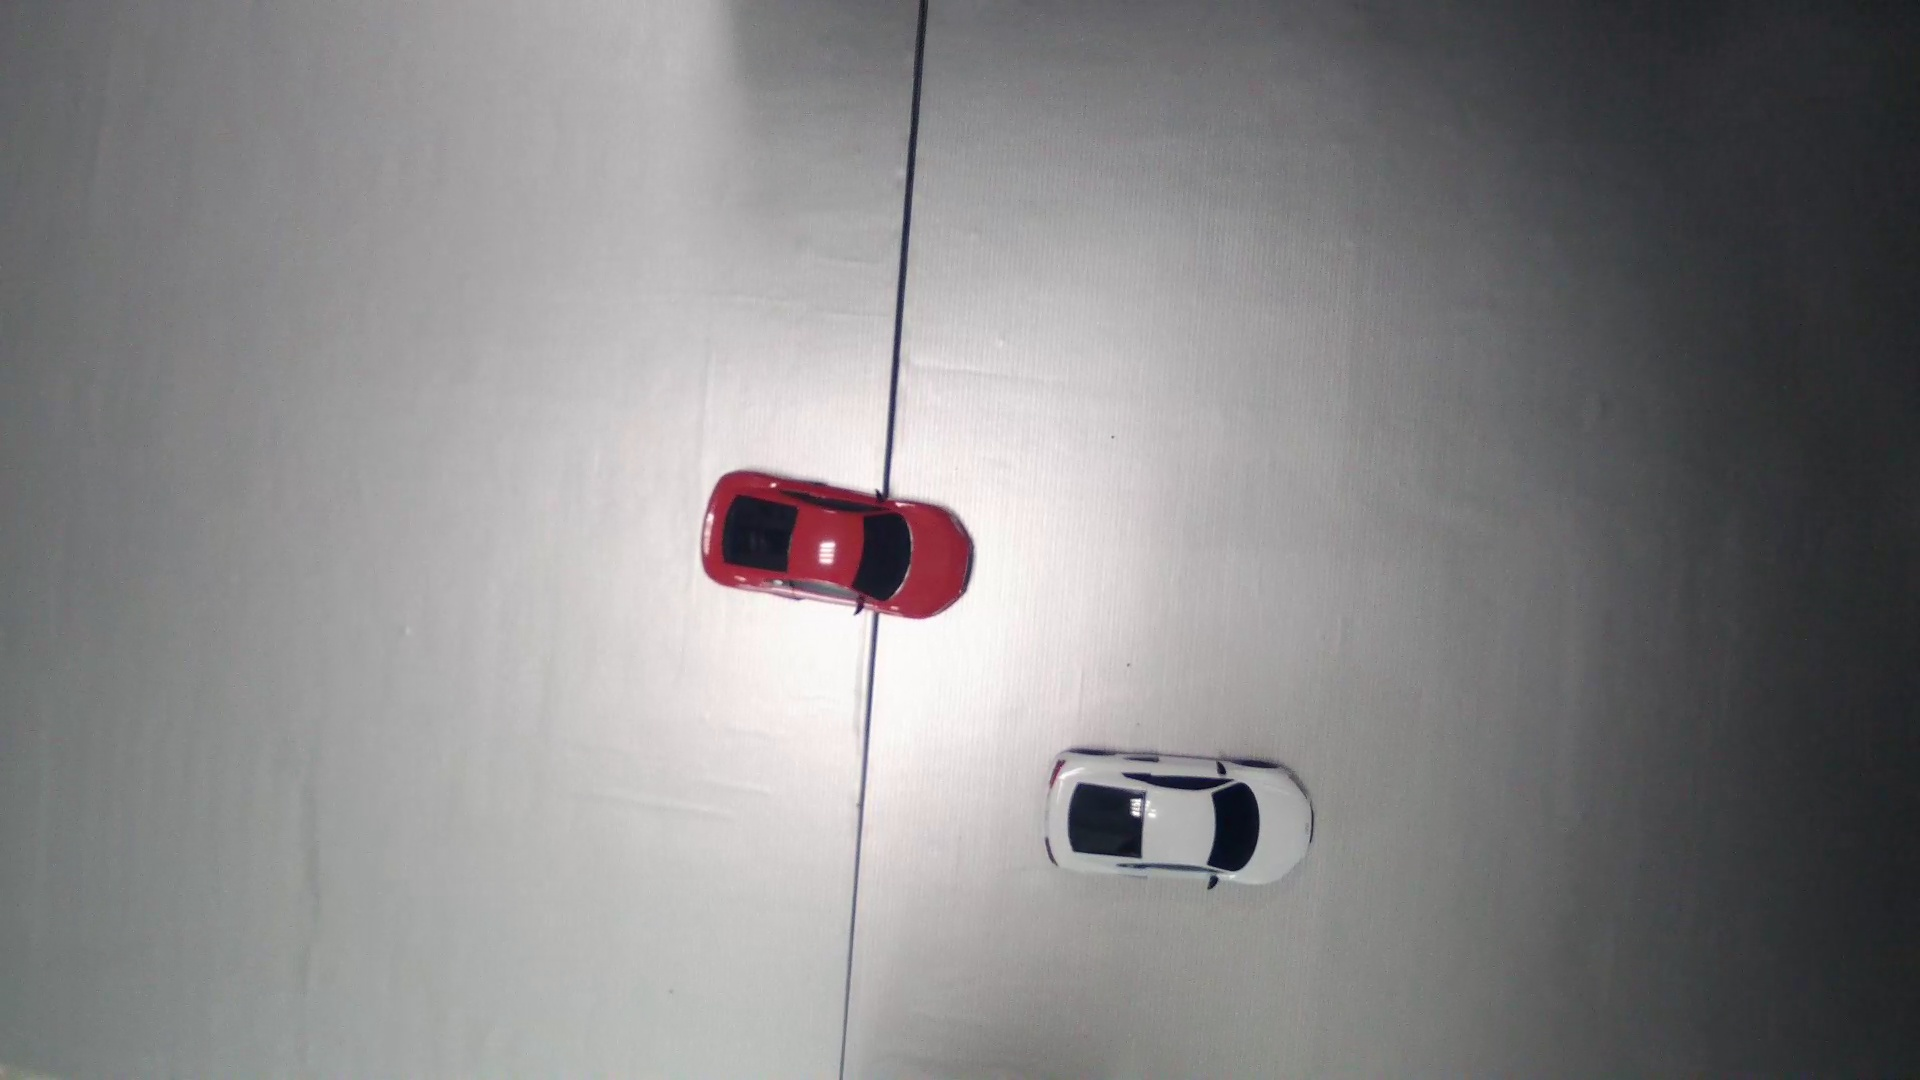remote_car: (698, 468, 977, 624), (1047, 746, 1316, 891)
